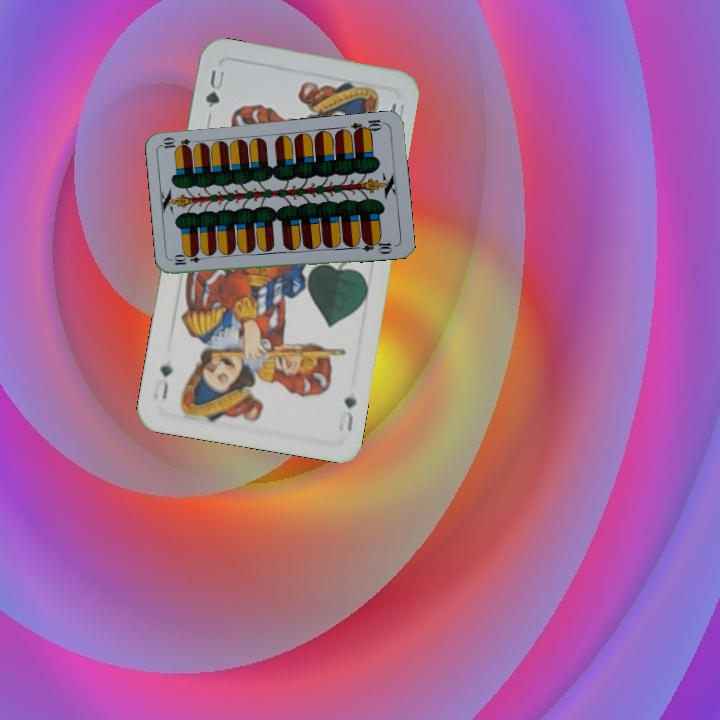E10: (347, 115, 388, 137), (170, 251, 210, 268)
GU: (201, 66, 228, 110), (340, 392, 359, 435)
